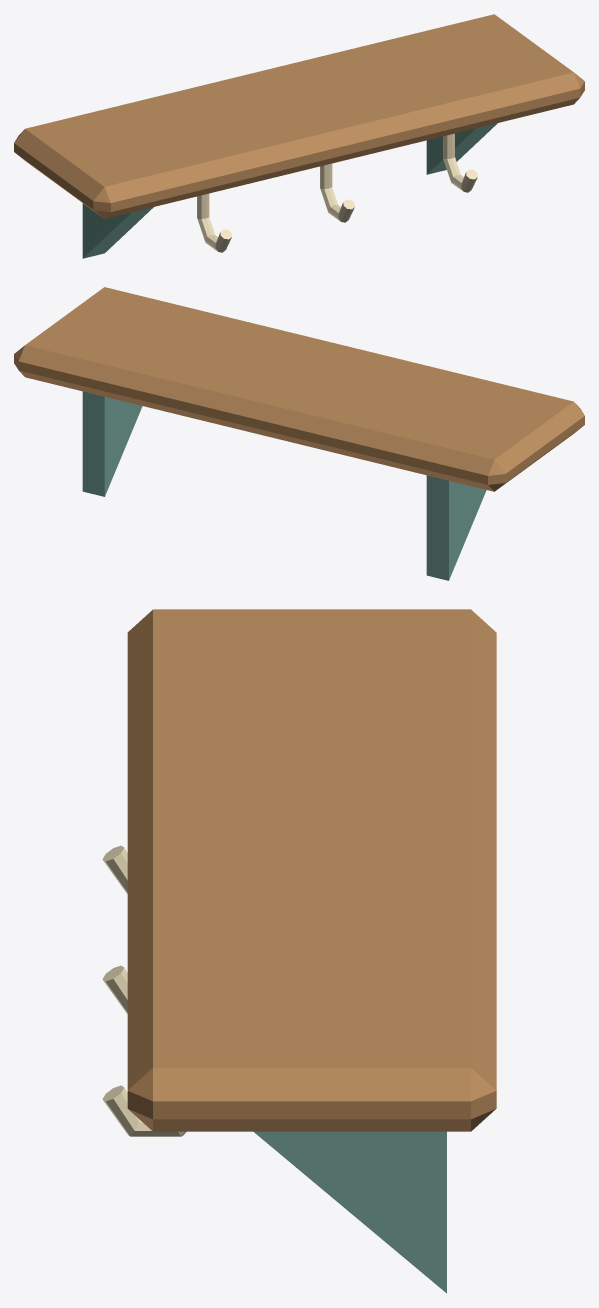
The picture shows the model from 3 angles, top to bottom: view 1: azimuth 30°, elevation 25°; view 2: azimuth 150°, elevation 25°; view 3: azimuth 270°, elevation 25°; orthographic projection. The views are drawn at different scales.
Visible parts, largest first — view 1: kitchen-wall-shelf-01; view 2: kitchen-wall-shelf-01; view 3: kitchen-wall-shelf-01.
Part boxes in pixels (x1,y1,x2,y2): kitchen-wall-shelf-01: (14, 14, 584, 258); kitchen-wall-shelf-01: (14, 287, 584, 580); kitchen-wall-shelf-01: (102, 609, 496, 1293).
Bounding box in the file's own units: 0.8 × 0.215 × 0.2777.
